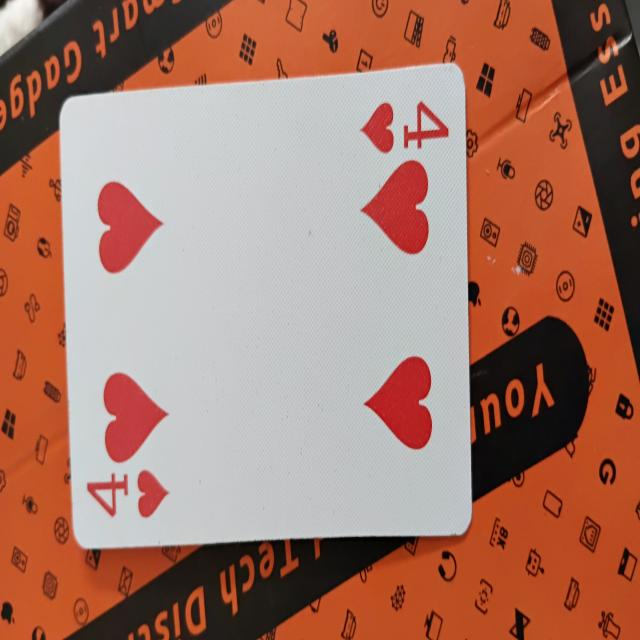4H: (60, 99, 470, 534)
